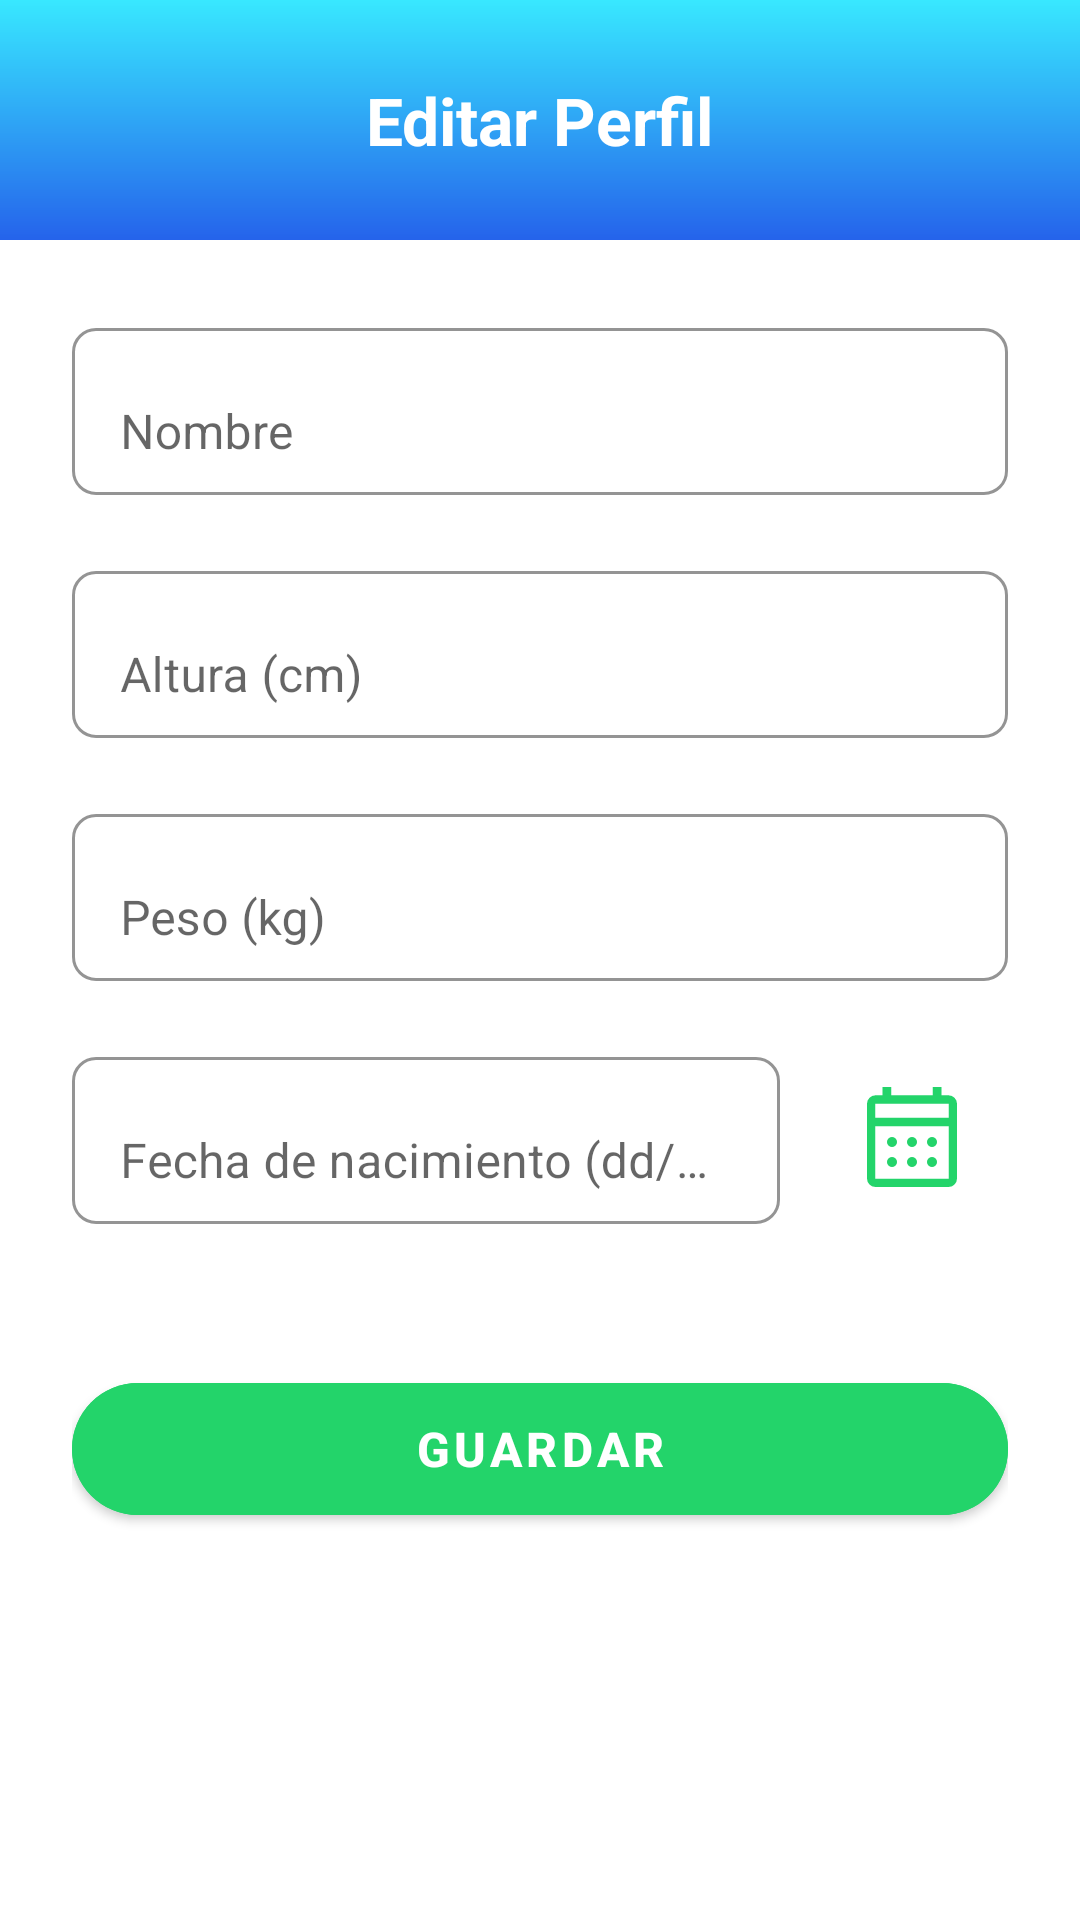

Icon click points for this 1080 × 1920 phone screenshot, format [x,y]:
Seleccionar fecha: [912,1137]
